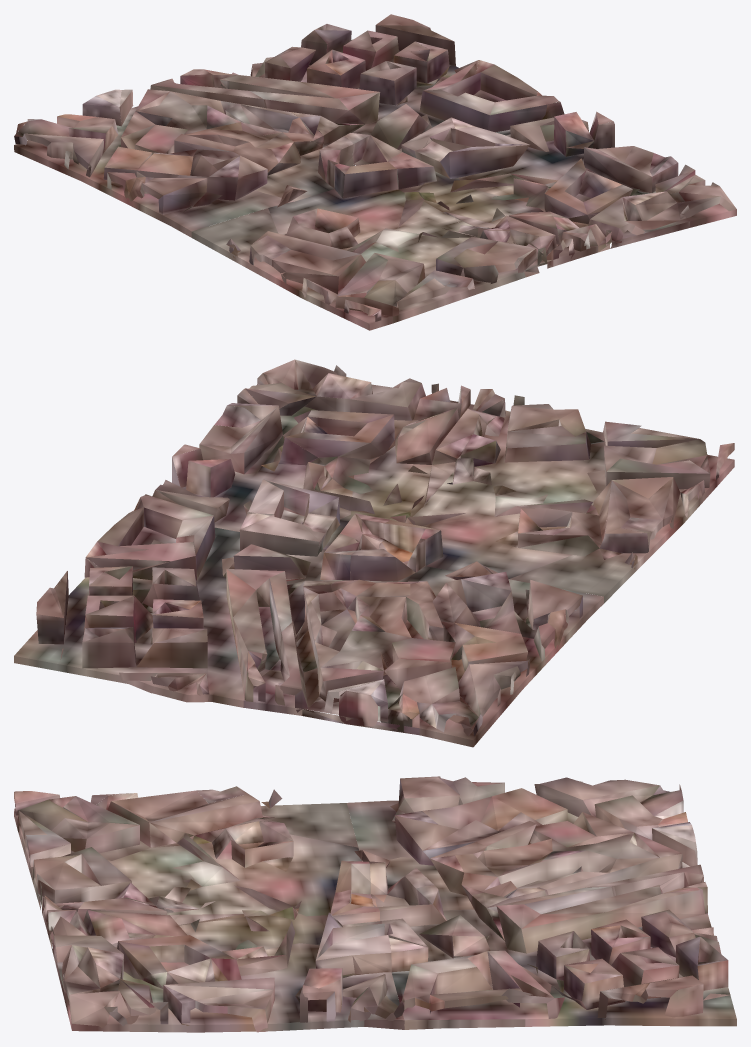
3 views of the same model, one above another, from view 1: azimuth 30°, elevation 25°; view 2: azimuth 150°, elevation 25°; view 3: azimuth 270°, elevation 25° (orthographic). The views are drawn at different scales.
Visible parts, largest first — view 1: Mesh_0; view 2: Mesh_0; view 3: Mesh_0.
Part boxes in pixels (<box>): Mesh_0: <box>14,14,736,330</box>; Mesh_0: <box>14,359,734,747</box>; Mesh_0: <box>14,776,736,1032</box>.
Size of the model in its own units: 532 by 69.97 by 659.
Materials: 2 (2 with a texture image).
